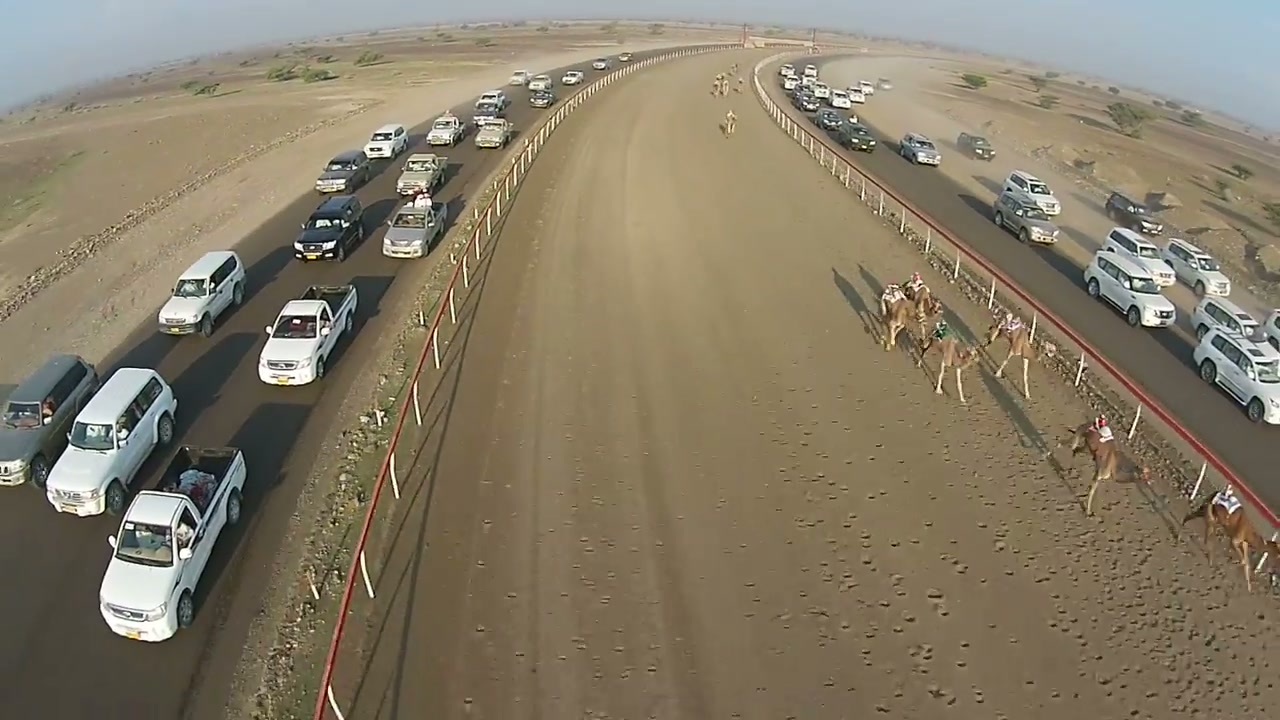animal_footprint: (808, 400, 1262, 719)
